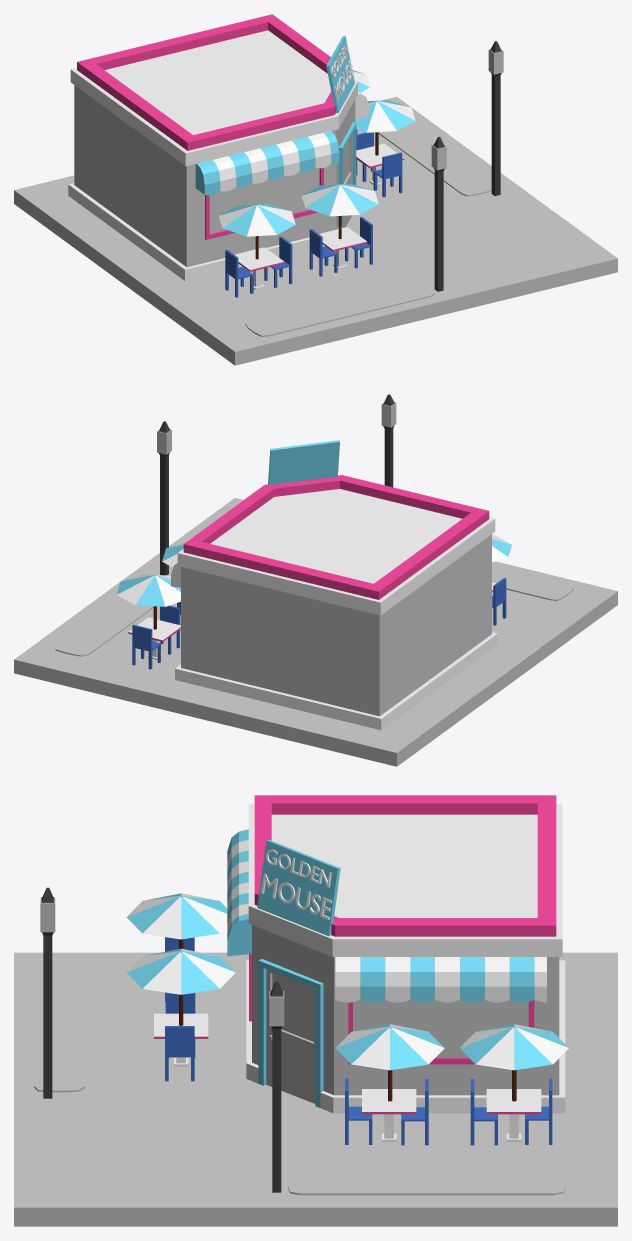
The model's file is shop.obj.
3 renders of one model, top to bottom at view 1: azimuth 30°, elevation 25°; view 2: azimuth 150°, elevation 25°; view 3: azimuth 270°, elevation 25°, orthographic. The views are drawn at different scales.
Parts seen in each view (by area): view 1: поверхность_Плоскость, крыша_Куб.005, стены_Куб.004, столы_Куб.012, кровля_Куб.008, Плоскость.001_Плоскость.004, травка1_Плоскость.003, окно1_Куб.007, фундамент_Куб.003, травка2_Плоскость.001, Куб.007_Куб.093, Куб.008_Куб.095 (+9 smaller); view 2: стены_Куб.004, поверхность_Плоскость, крыша_Куб.005, кровля_Куб.008, фундамент_Куб.003, столы_Куб.012, табличка_Куб, травка2_Плоскость.001, травка1_Плоскость.003, Куб.007_Куб.093, стулья.002_Куб.023, Куб.008_Куб.095; view 3: поверхность_Плоскость, крыша_Куб.005, столы_Куб.012, кровля_Куб.008, стены_Куб.004, Плоскость_Плоскость.002, травка2_Плоскость.001, окно2_Куб.009, травка1_Плоскость.003, дверь_Куб.011, табличка_Куб, фундамент_Куб.003 (+12 smaller).
Part boxes in pixels (box(x1,y1,x2,y2)): поверхность_Плоскость: box(14, 96, 617, 365); крыша_Куб.005: box(70, 30, 357, 166); стены_Куб.004: box(74, 85, 355, 267); столы_Куб.012: box(218, 70, 415, 289); кровля_Куб.008: box(77, 14, 335, 150); Плоскость.001_Плоскость.004: box(195, 131, 339, 195); травка1_Плоскость.003: box(245, 282, 434, 336); окно1_Куб.007: box(209, 168, 319, 233); фундамент_Куб.003: box(68, 183, 342, 280); травка2_Плоскость.001: box(378, 124, 491, 196); Куб.007_Куб.093: box(490, 41, 501, 195); Куб.008_Куб.095: box(433, 136, 445, 291); стены_Куб.004: box(181, 534, 491, 716); поверхность_Плоскость: box(14, 498, 617, 766); крыша_Куб.005: box(177, 489, 495, 615); кровля_Куб.008: box(183, 475, 489, 599); фундамент_Куб.003: box(175, 632, 497, 730); столы_Куб.012: box(116, 534, 511, 659); табличка_Куб: box(268, 440, 339, 485); травка2_Плоскость.001: box(55, 598, 153, 656); травка1_Плоскость.003: box(492, 566, 573, 600); Куб.007_Куб.093: box(158, 421, 170, 575); стулья.002_Куб.023: box(132, 624, 160, 669); Куб.008_Куб.095: box(383, 394, 394, 487); поверхность_Плоскость: box(14, 952, 617, 1226); крыша_Куб.005: box(248, 804, 562, 956); столы_Куб.012: box(126, 893, 568, 1141); кровля_Куб.008: box(254, 795, 556, 936); стены_Куб.004: box(252, 925, 559, 1095); Плоскость_Плоскость.002: box(335, 957, 546, 1002); травка2_Плоскость.001: box(288, 1171, 565, 1195); окно2_Куб.009: box(353, 1000, 528, 1057); травка1_Плоскость.003: box(34, 973, 85, 1092); дверь_Куб.011: box(266, 969, 315, 1103); табличка_Куб: box(257, 839, 340, 936); фундамент_Куб.003: box(246, 960, 565, 1113).
Size of the model in its own units: 60.76 by 28.35 by 60.76.
